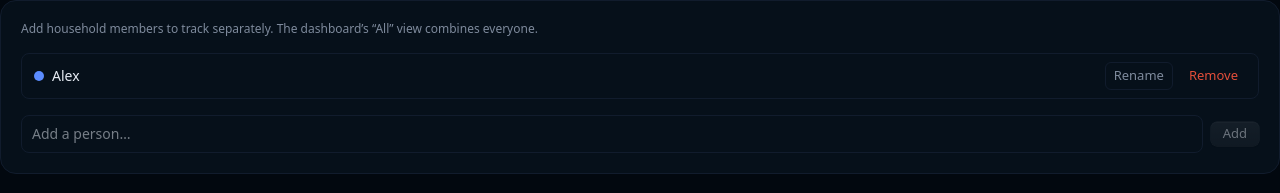
Scenario: ProfilesPane › renames a profile
The image size is (1280, 193).
Expected: the text "Alex" is shown, [34,66,80,86]
Click the button "Rename" at {"x": 1139, "y": 76}, box [1105,62,1173,90]
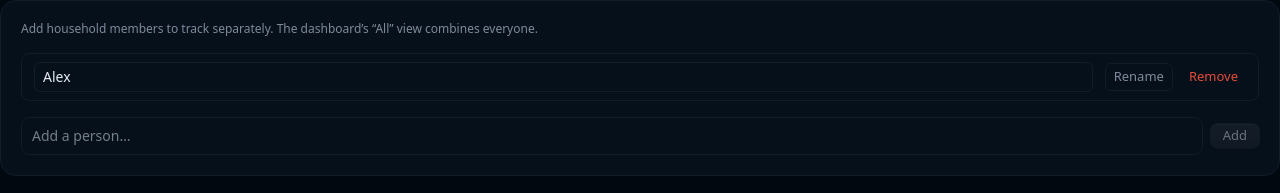
Replace the text in the field named "Rename Alex" with "Ash" at {"x": 563, "y": 77}, box [34,62,1093,92]
Then press Enter
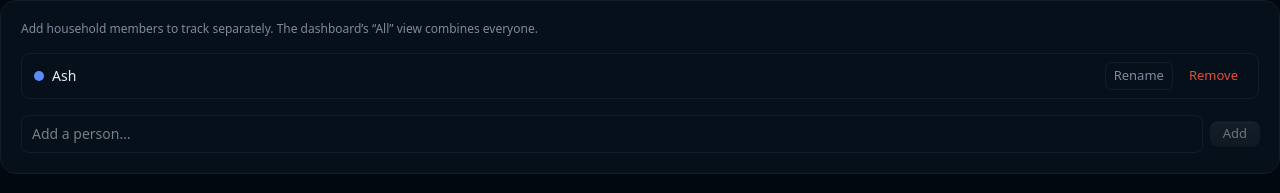
Now the text "Ash" is shown, box [34,66,76,86]
